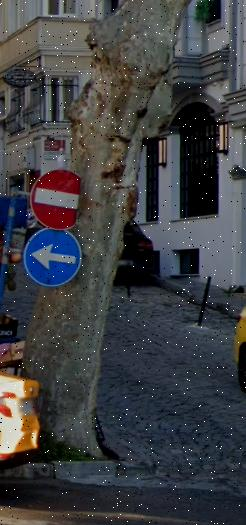turnleft: (25, 229, 81, 288)
